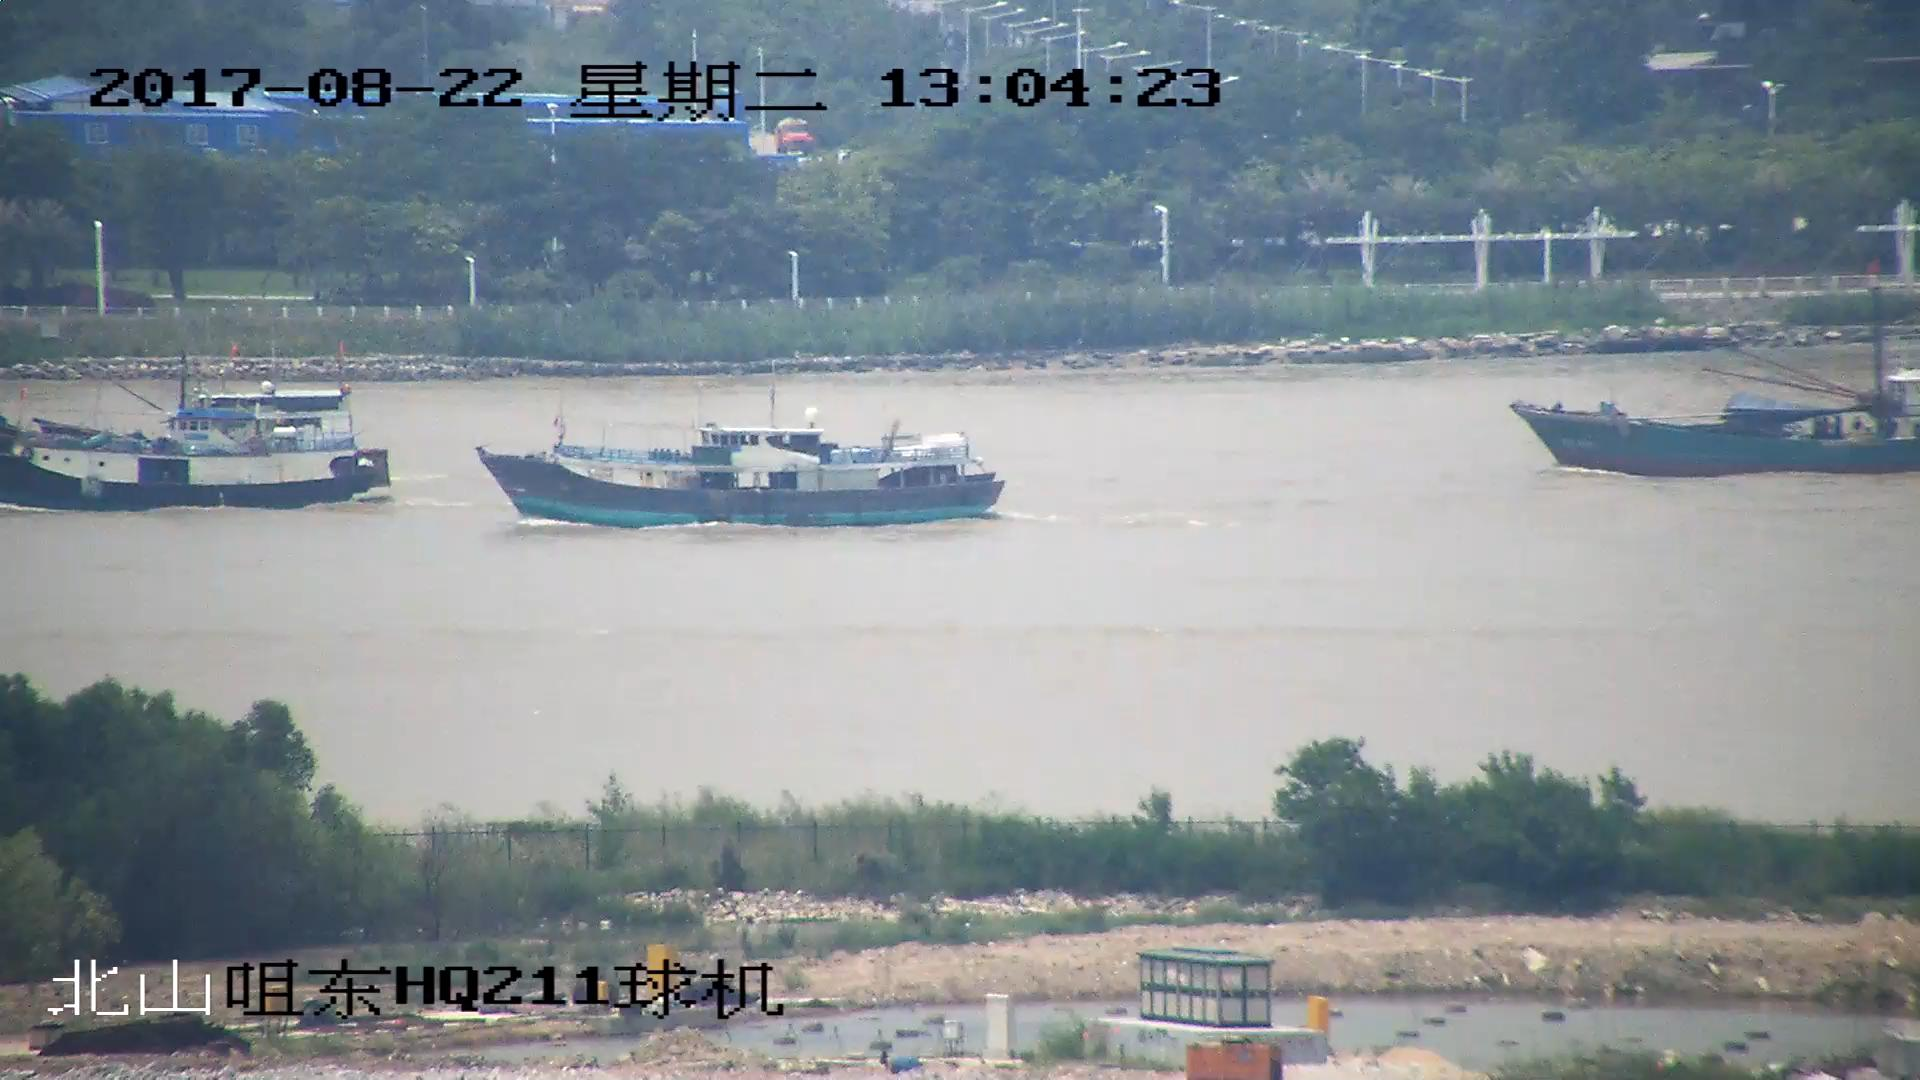fishing boat: (1519, 299, 1920, 480), (480, 410, 1008, 524), (1, 386, 395, 507)
